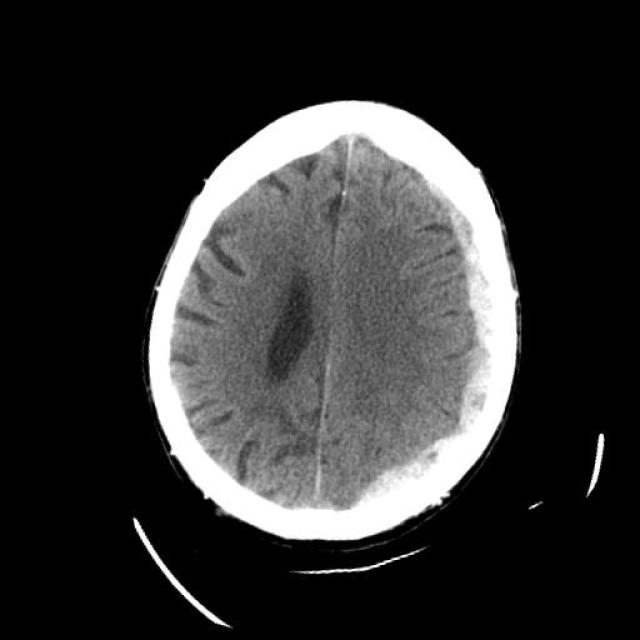Subdural: (296, 158, 540, 541)
